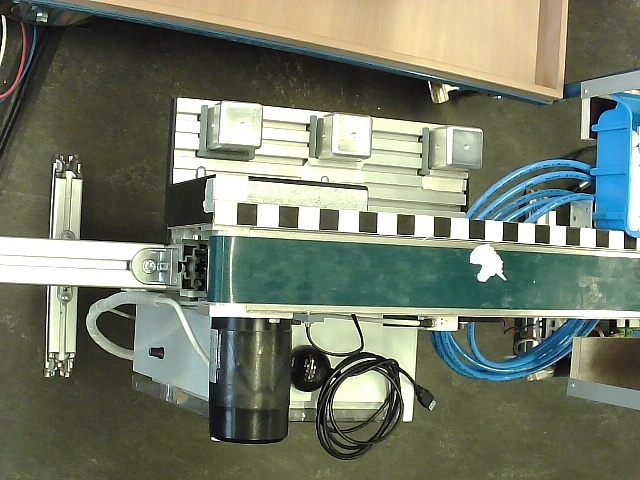unicorn: (470, 243, 508, 283)
